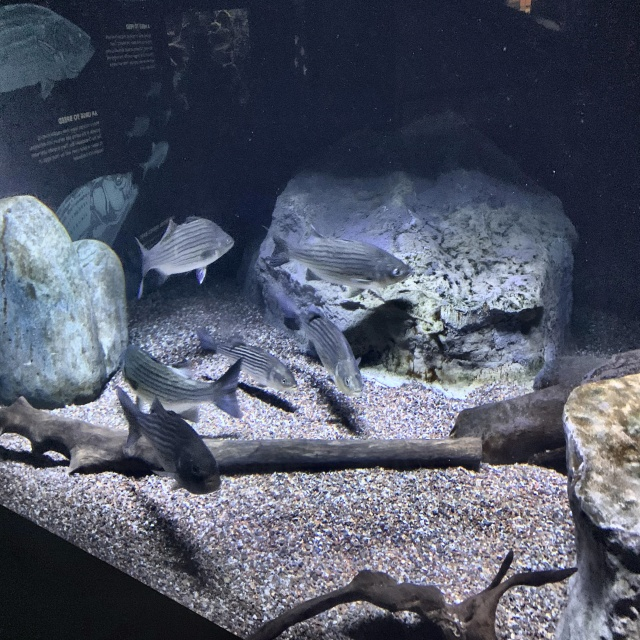fish: (112, 380, 222, 496), (267, 227, 416, 299), (121, 343, 245, 423), (281, 291, 367, 399), (133, 215, 236, 300), (196, 326, 299, 392)
